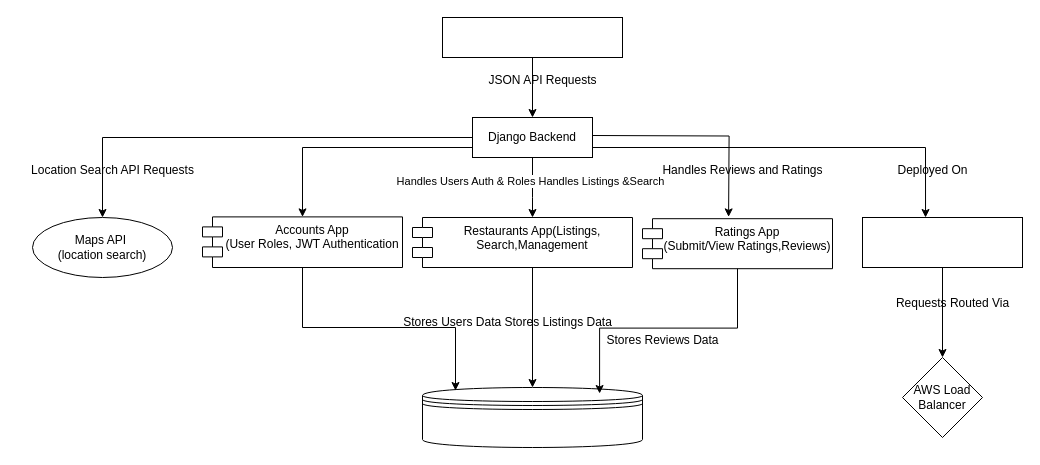
This 1040x465 diagram has some shape labels left out. The shapes that lost their labels are listed below. From the top down, each one's centre as x and y in pixels, then its label:
the point at 532,37: Frontend UI
the point at 942,242: AWS EC2 Instances(Backend Hosting)
the point at 532,417: PostgreSQL Database (AWS RDS)
